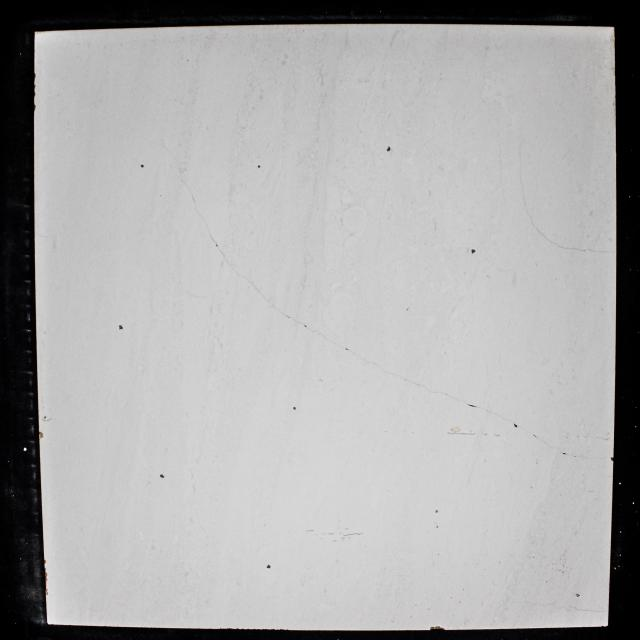edge-chipping: (430, 626, 445, 630), (45, 578, 48, 588), (39, 432, 43, 439), (46, 588, 49, 596), (44, 572, 48, 577), (34, 105, 36, 112), (34, 73, 36, 79), (34, 92, 36, 96), (44, 560, 46, 564), (34, 85, 36, 88)
hole: (386, 146, 391, 152), (119, 324, 123, 330), (266, 564, 271, 568), (610, 457, 614, 462), (257, 165, 261, 169), (160, 474, 164, 478), (472, 249, 476, 253), (514, 423, 517, 428), (141, 164, 144, 168), (576, 594, 580, 597), (43, 416, 47, 419), (293, 407, 296, 410), (435, 510, 438, 513), (562, 452, 566, 454), (216, 244, 218, 247), (436, 526, 438, 528), (346, 348, 348, 350), (304, 325, 306, 327)
line: (219, 250, 302, 324), (164, 147, 215, 242), (349, 351, 405, 380), (538, 232, 614, 253), (407, 380, 466, 404), (520, 171, 538, 231), (520, 427, 561, 452), (468, 403, 514, 422), (308, 328, 344, 349), (568, 454, 610, 460), (569, 606, 602, 612), (448, 432, 475, 435), (344, 533, 360, 536)
